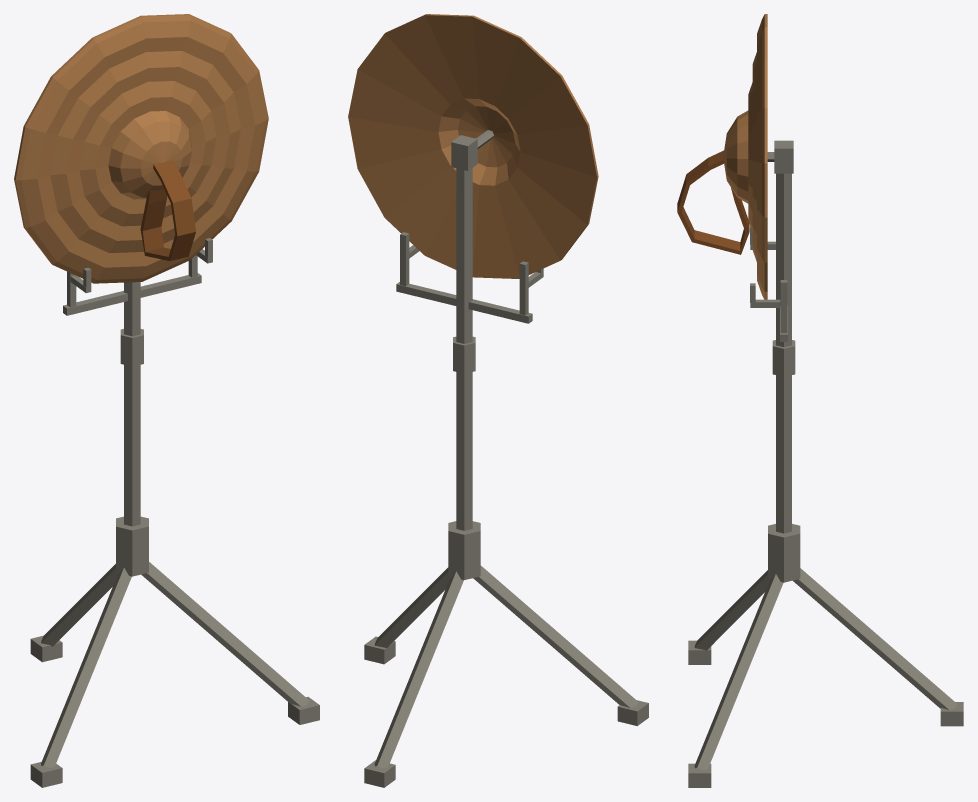
Rendered from orchestral-cymbal-5edbc4.glb.
3 views of the same model, side by side, from view 1: azimuth 30°, elevation 25°; view 2: azimuth 150°, elevation 25°; view 3: azimuth 270°, elevation 25° (orthographic). The views are drawn at different scales.
Parts seen in each view (by area): view 1: cymbal-body, stand, cymbal-strap; view 2: cymbal-body, stand; view 3: stand, cymbal-body, cymbal-strap.
Boxes of the visible parts, bbox=[...] form: cymbal-body: bbox=[14, 14, 268, 283]; stand: bbox=[30, 238, 319, 787]; cymbal-strap: bbox=[140, 159, 195, 260]; cymbal-body: bbox=[348, 14, 598, 278]; stand: bbox=[364, 130, 648, 787]; stand: bbox=[688, 140, 963, 787]; cymbal-body: bbox=[723, 14, 767, 299]; cymbal-strap: bbox=[677, 150, 749, 254].
Size of the model in its own units: 0.5044 by 1.23 by 0.4596.
